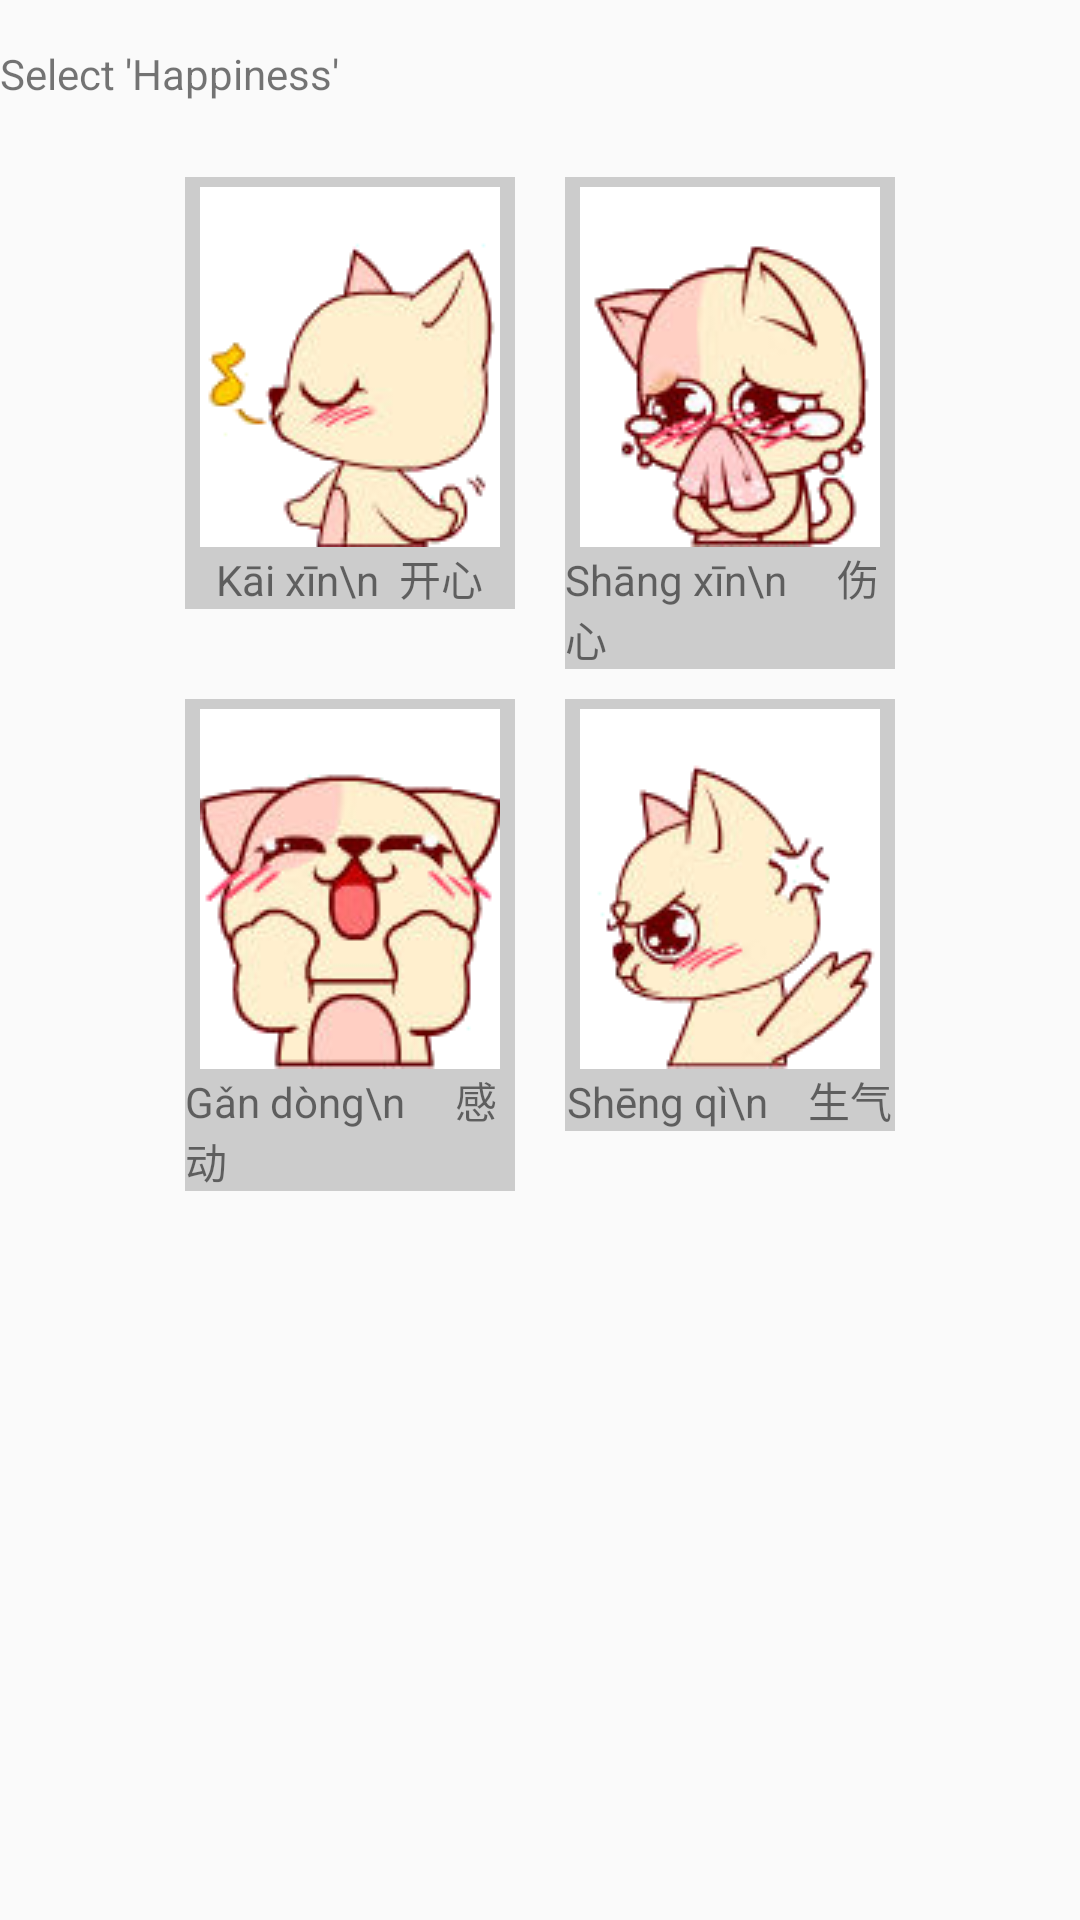

Screen size 1080 x 1920. Icon name, then its center in pixels as [x,y]:
sexcenllent: [350,889]
